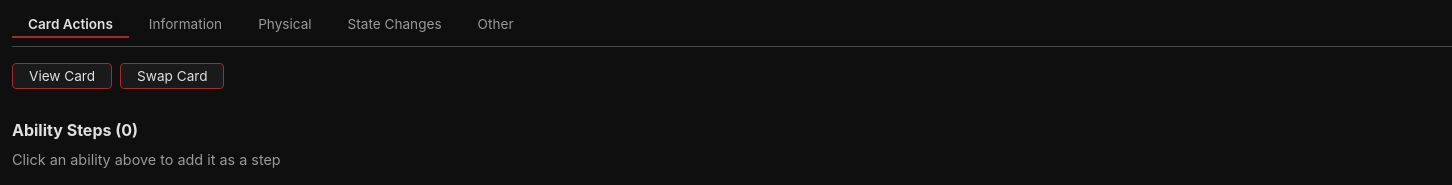
Scenario: AbilitiesStep › category switching › shows information abilities when Information tab clicked
Step 1. Click the button "Information" → (186,25), box x1=133 y1=12 x2=238 y2=38
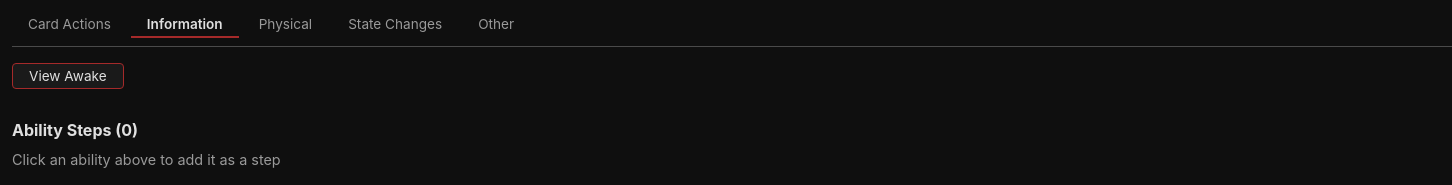
Check: the button "View Awake" is shown, box x1=12 y1=63 x2=124 y2=89
